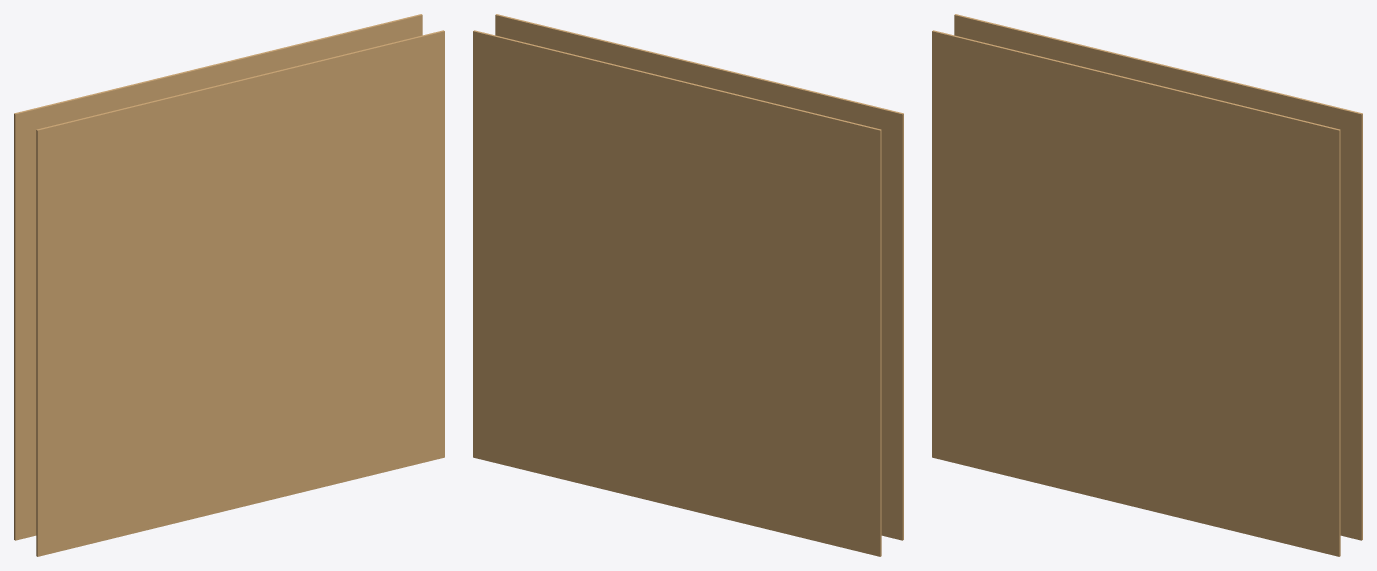
File: board.glb
3 views of the same model, side by side, from view 1: azimuth 30°, elevation 25°; view 2: azimuth 150°, elevation 25°; view 3: azimuth 330°, elevation 25° (orthographic).
Parts seen in each view (by area): view 1: Substrate_Layer_1, Substrate_Layer_0; view 2: Substrate_Layer_0, Substrate_Layer_1; view 3: Substrate_Layer_1, Substrate_Layer_0.
Part boxes in pixels (<box>): Substrate_Layer_1: <box>36,30,444,556</box>; Substrate_Layer_0: <box>14,14,422,540</box>; Substrate_Layer_0: <box>473,30,881,556</box>; Substrate_Layer_1: <box>495,14,903,540</box>; Substrate_Layer_1: <box>932,30,1340,556</box>; Substrate_Layer_0: <box>954,14,1362,540</box>.
Bounding box in the file's own units: 0.018 × 0.018 × 0.0018.
